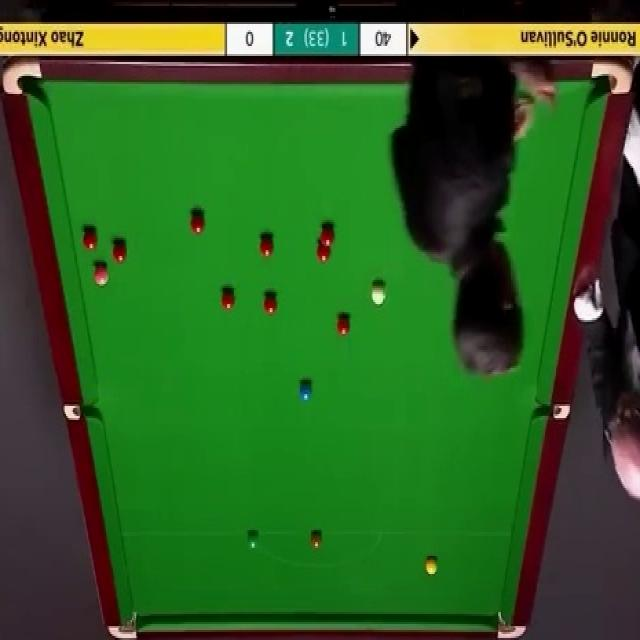blue-ball: (299, 381, 311, 404)
brown-ball: (309, 531, 323, 549)
green-ball: (245, 530, 260, 552)
pink-ball: (93, 265, 110, 287)
red-ball: (257, 232, 274, 260), (80, 228, 98, 252), (188, 212, 207, 234), (334, 314, 352, 335), (113, 240, 128, 265), (221, 288, 235, 312), (321, 222, 334, 246), (317, 241, 331, 262), (262, 295, 278, 313)
white-ball: (371, 279, 387, 306)
yellow-ball: (425, 554, 438, 576)
